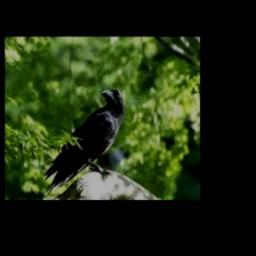Crow: (44, 87, 125, 198)
